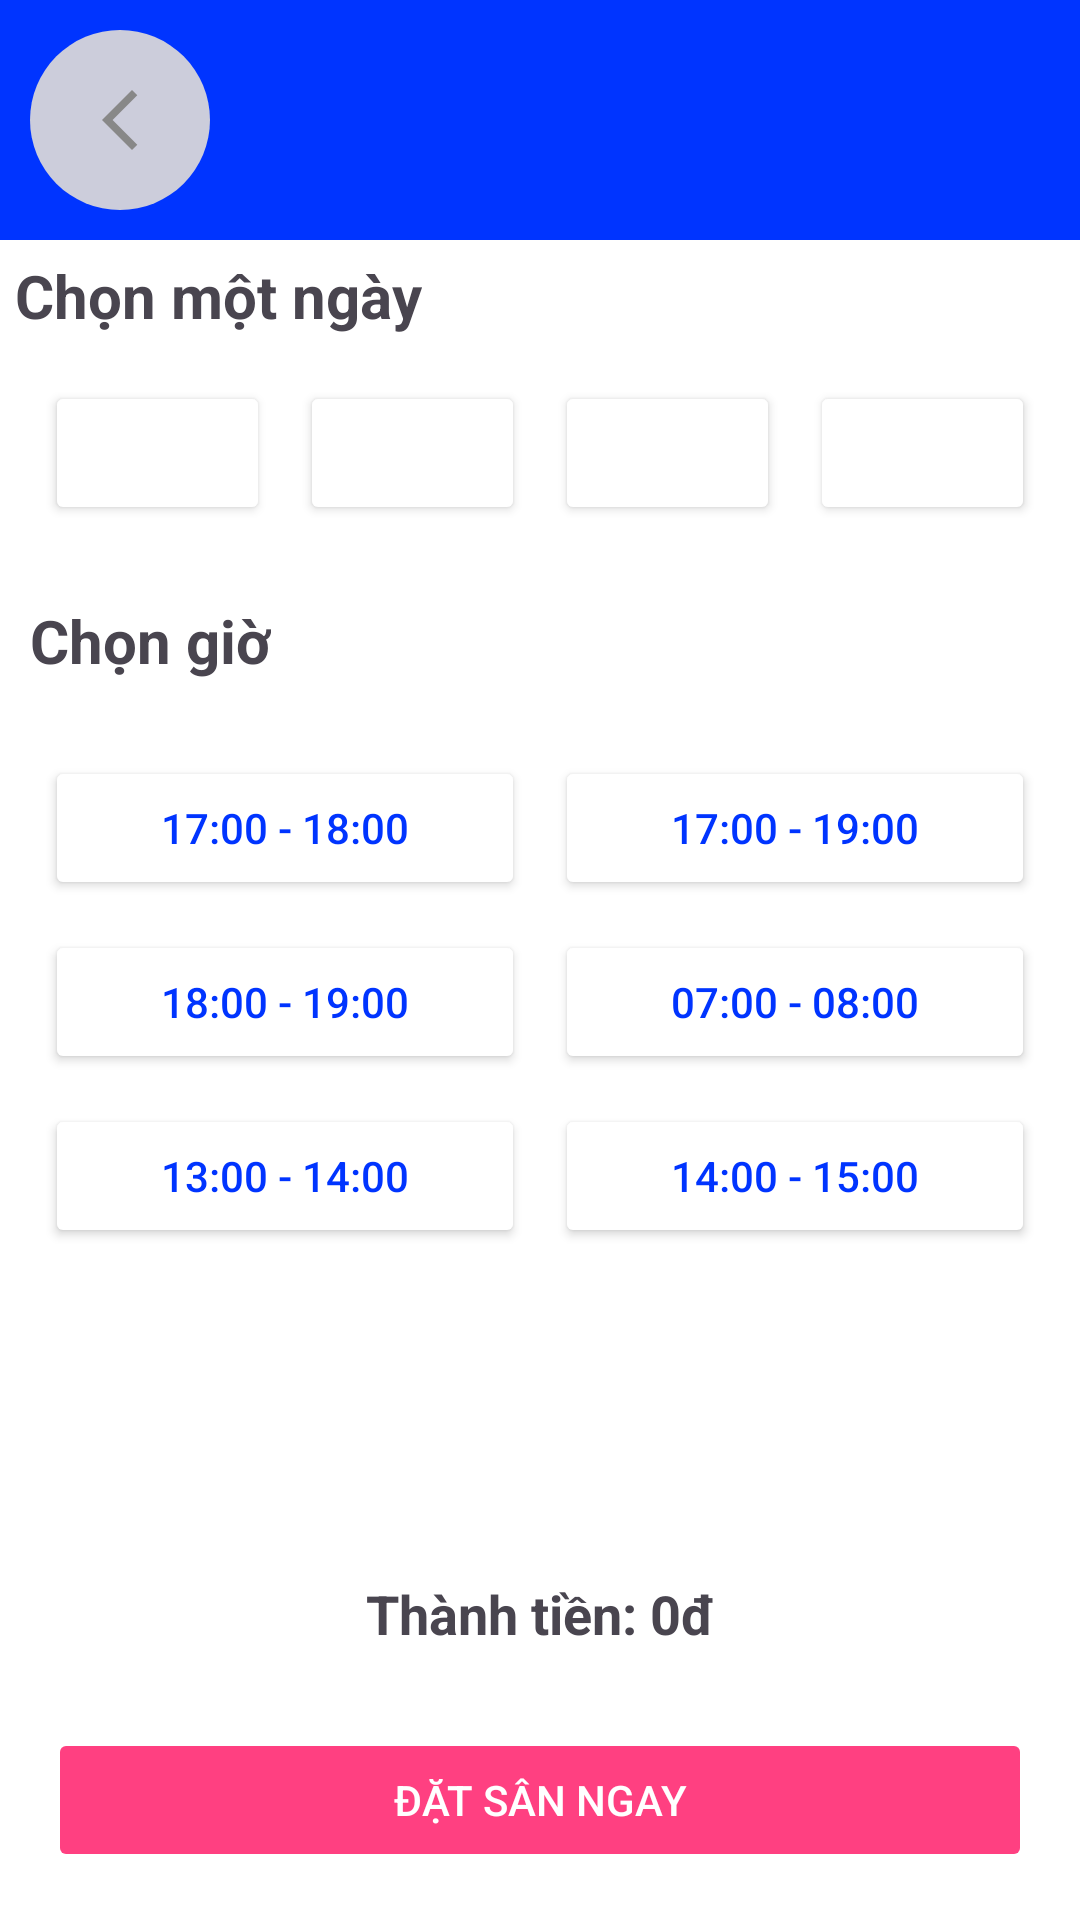

Named icons in this screenshot (1080*1920) and their bounding boxes, (x1, y1, x2, y2):
back: (102, 90, 137, 150)
